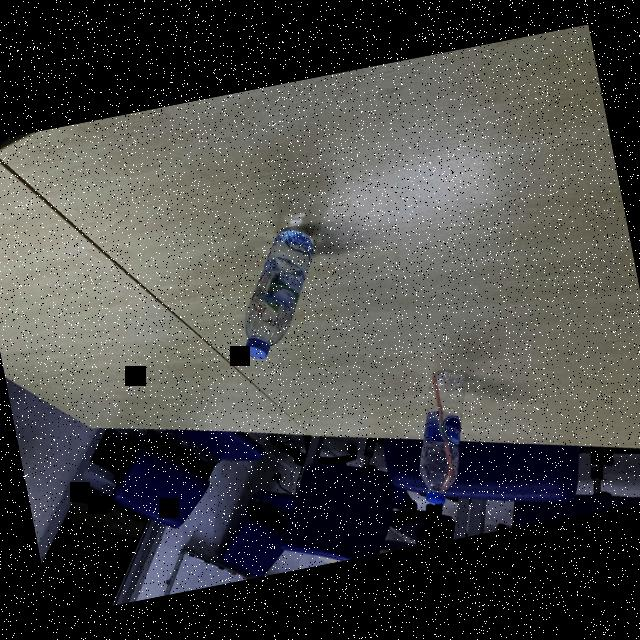plastic_bottle: (221, 222, 337, 362), (399, 364, 495, 506)
plastic_bottle_cap: (242, 334, 272, 361), (425, 488, 447, 506)
straw: (416, 370, 460, 493)
